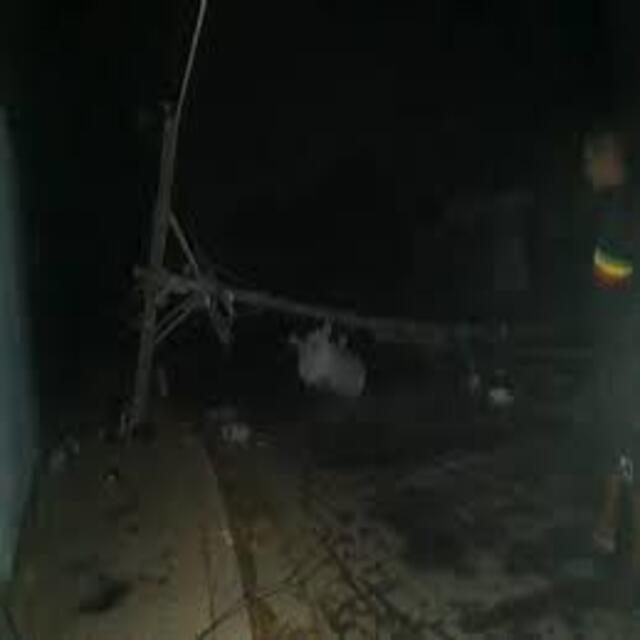Inclined Pole: (110, 91, 541, 434)
